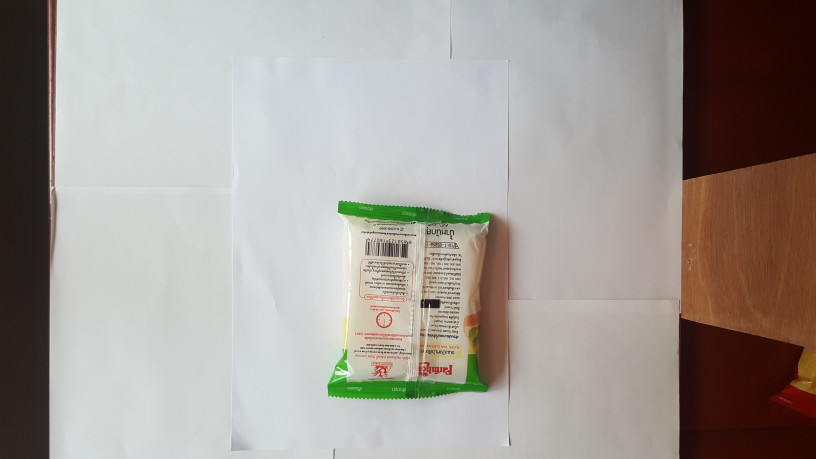farmhouse-bread-pandan: (322, 199, 492, 404)
